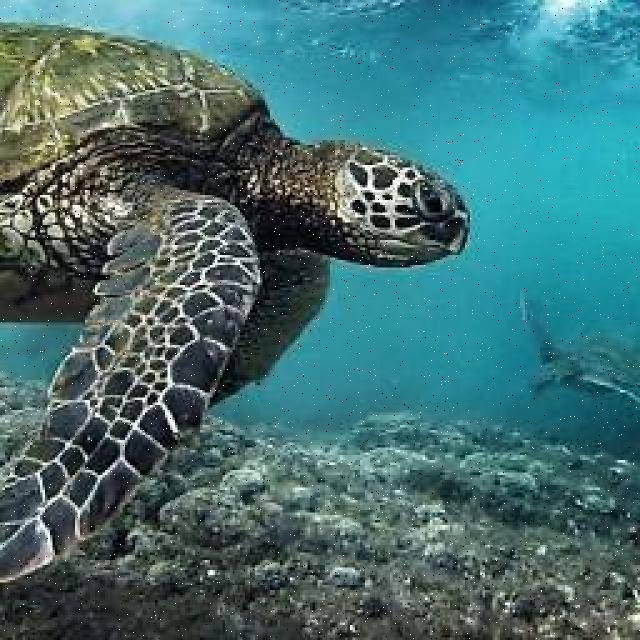fish: (0, 19, 473, 585), (517, 291, 638, 405)
